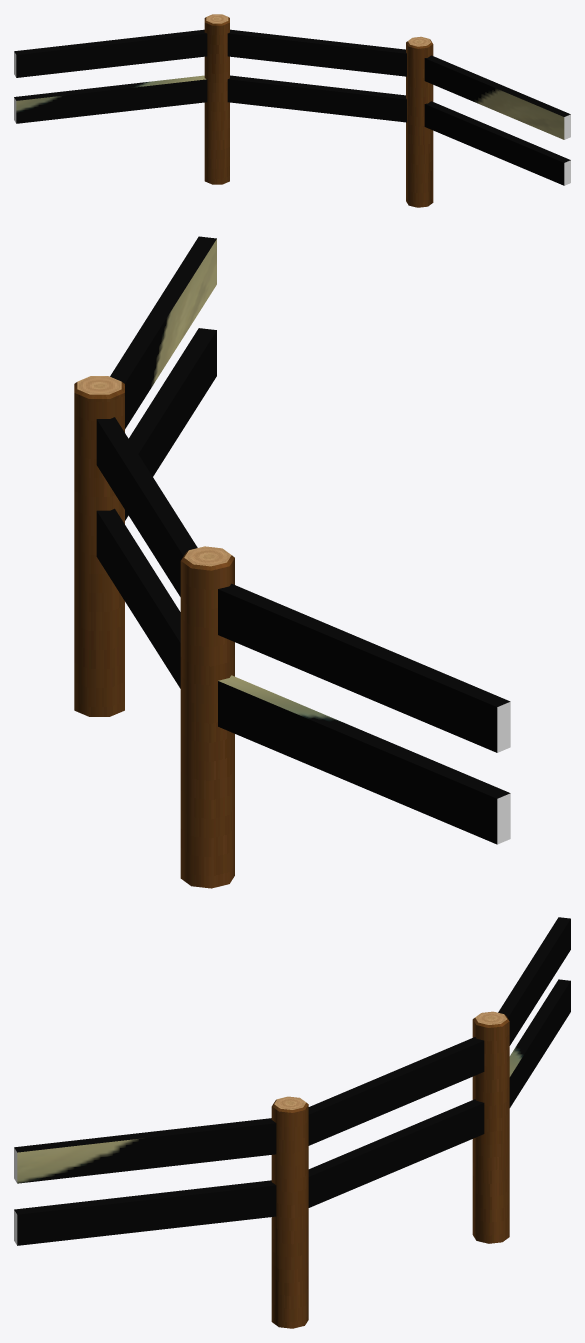
File: Path_Fence_Curve_2x2.fbx
The picture shows the model from 3 angles, top to bottom: view 1: azimuth 30°, elevation 25°; view 2: azimuth 150°, elevation 25°; view 3: azimuth 270°, elevation 25°; orthographic projection. The views are drawn at different scales.
Parts seen in each view (by area): view 1: Path_Fence_Curve_2x2; view 2: Path_Fence_Curve_2x2; view 3: Path_Fence_Curve_2x2.
Boxes of the visible parts, x1,y1,x2,y2 form: Path_Fence_Curve_2x2: (14,14,570,207); Path_Fence_Curve_2x2: (74,236,510,888); Path_Fence_Curve_2x2: (14,917,570,1328).
Size of the model in its own units: 203 by 87.5 by 203.
